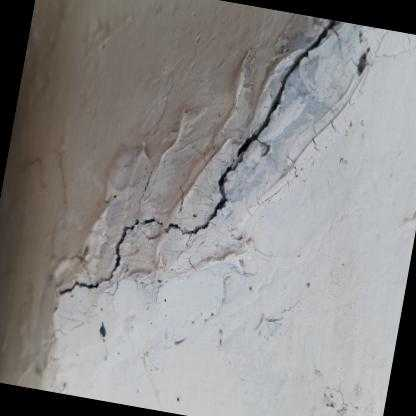crack: (236, 19, 341, 155), (57, 216, 162, 294), (164, 163, 231, 233)
